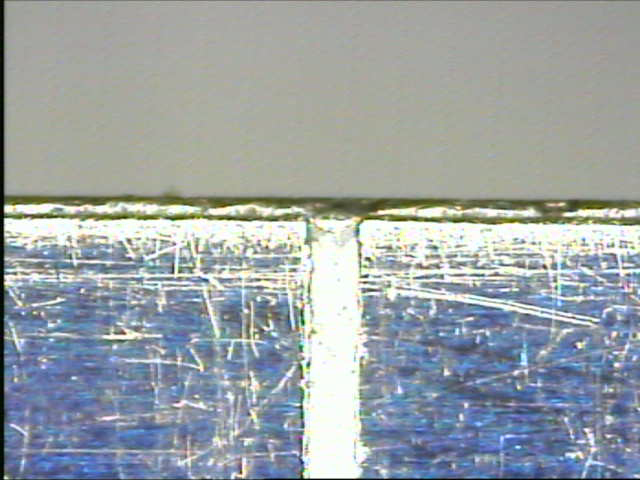line: (296, 205, 367, 479)
